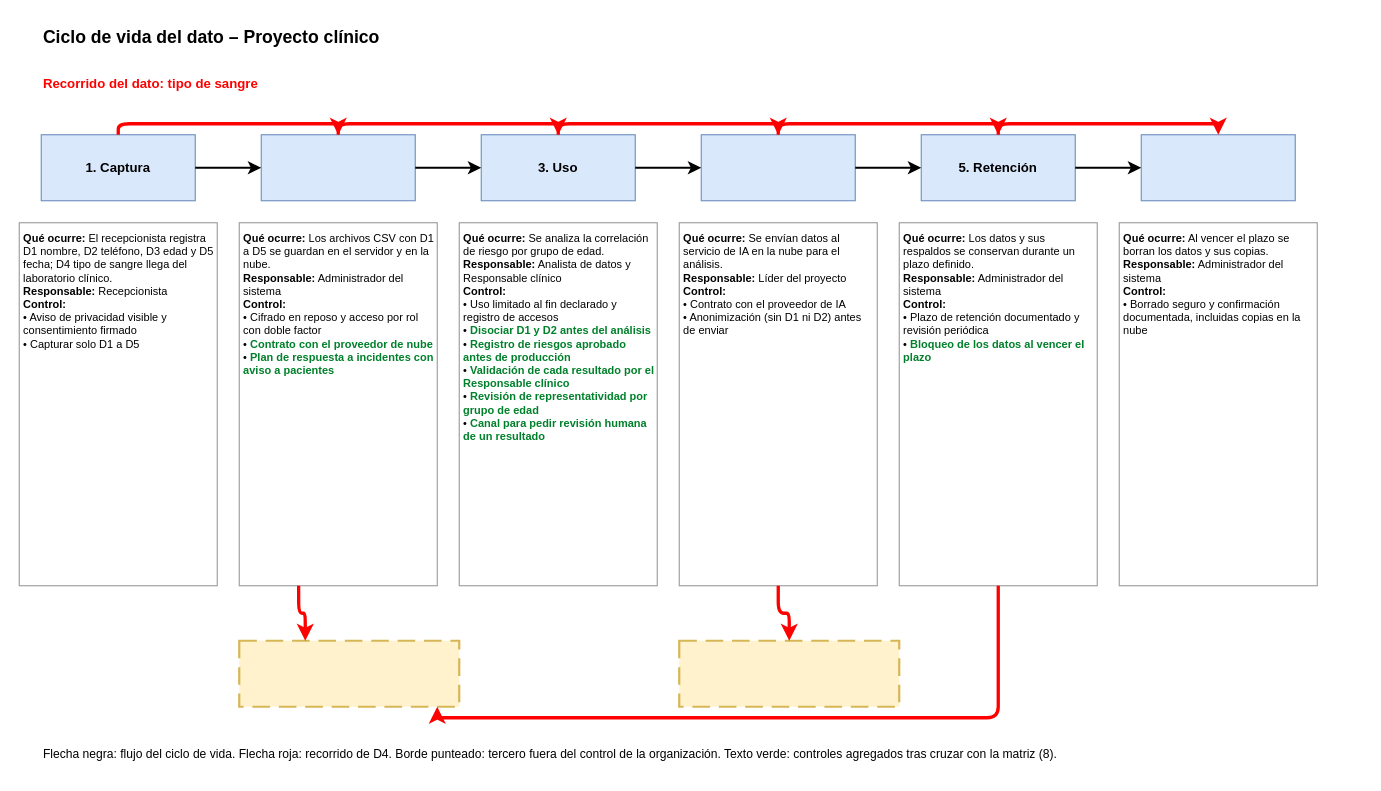
Some shapes in this 1381 by 791 pixel diagram are drawn without their labels. Here are the shapes that lost their labels. From the top down, the centre of each, then its label:
At (337,167): "2. Almacenamiento".
At (777,167): "4. Compartición".
At (1217,167): "6. Eliminación".
At (349,673): "Tercero: Proveedor de nube (almacenamiento y respaldos)".
At (789,673): "Tercero: Servicio de IA generativa en la nube".
